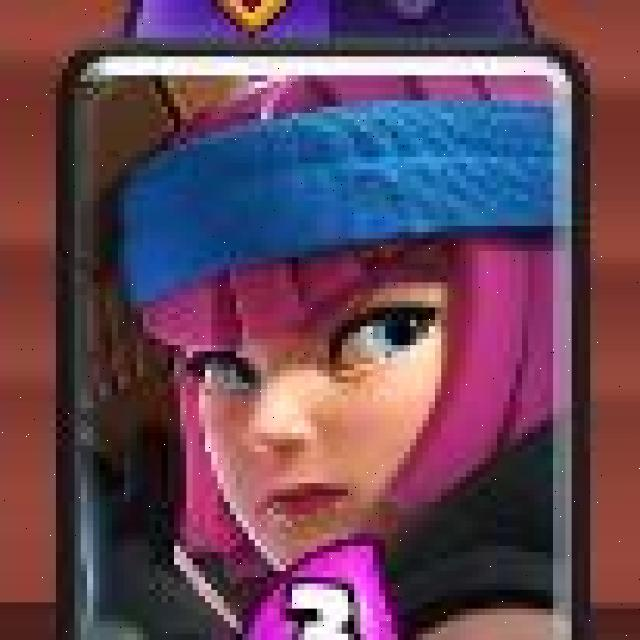Firecracker: (54, 47, 596, 640)
